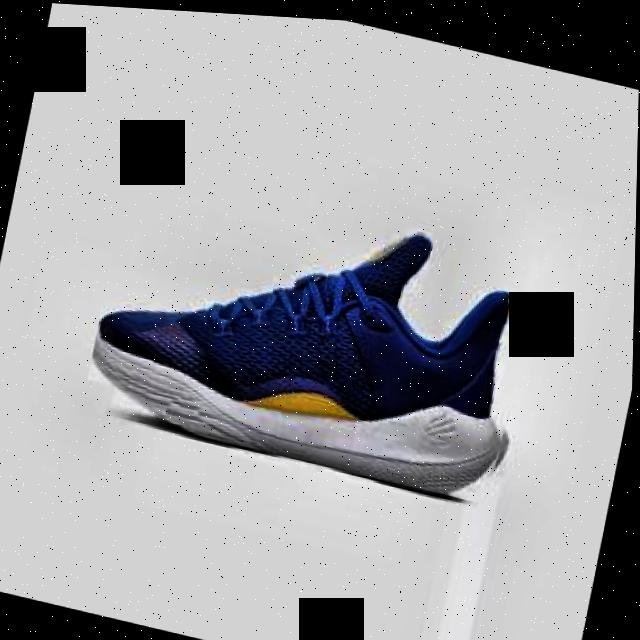shoe: (82, 160, 546, 502)
